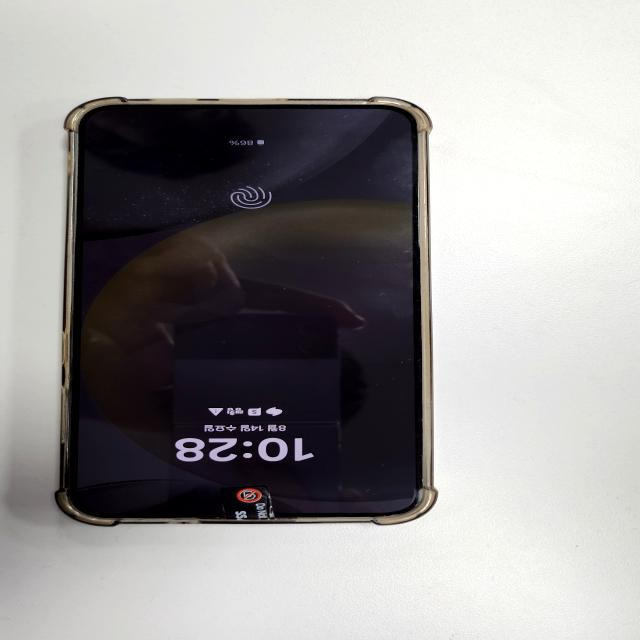phone: (59, 96, 443, 526)
sticker: (222, 487, 276, 521)
